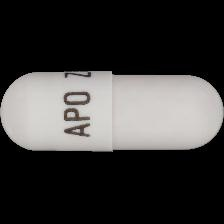63187-578: (0, 0, 224, 224)
